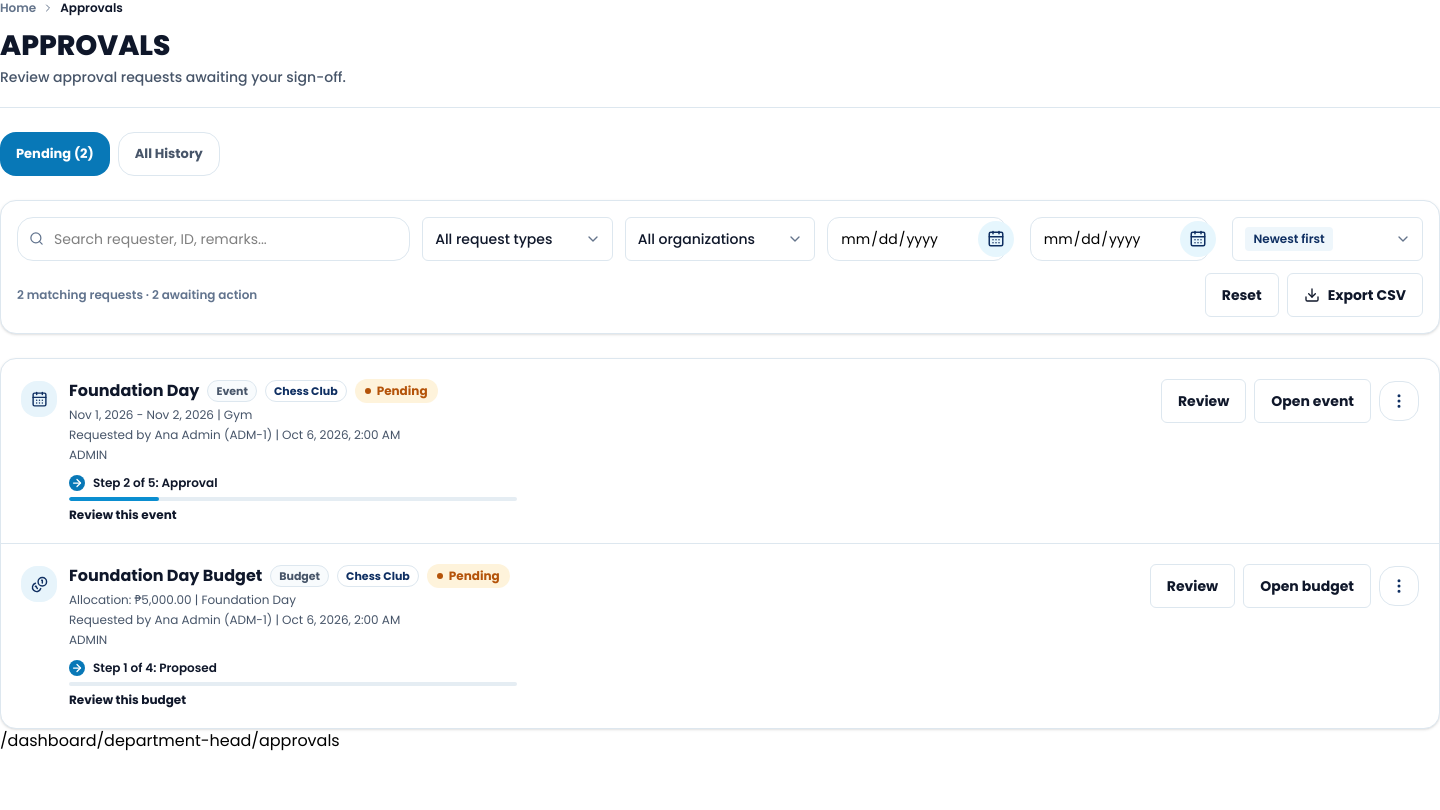
DepartmentHeadApprovalsPage drawer › writes ?record= when a row is opened and closes the drawer when it is cleared
The width and height of the screenshot is (1440, 810).
Click the button named "Actions for Foundation Day": click(1399, 401) [1379, 381, 1419, 421]
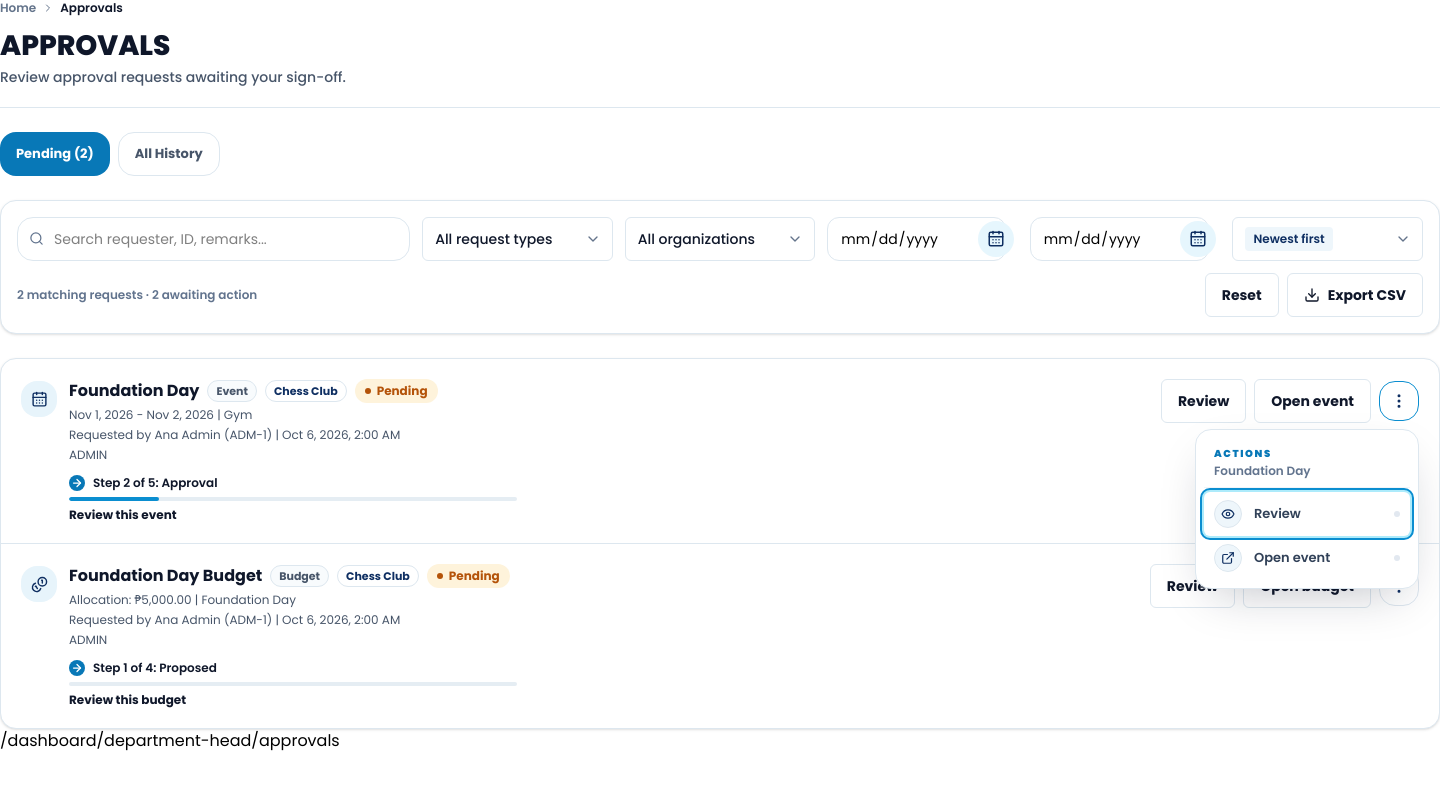
Click the menu item "Review": click(1307, 514) [1204, 492, 1410, 536]
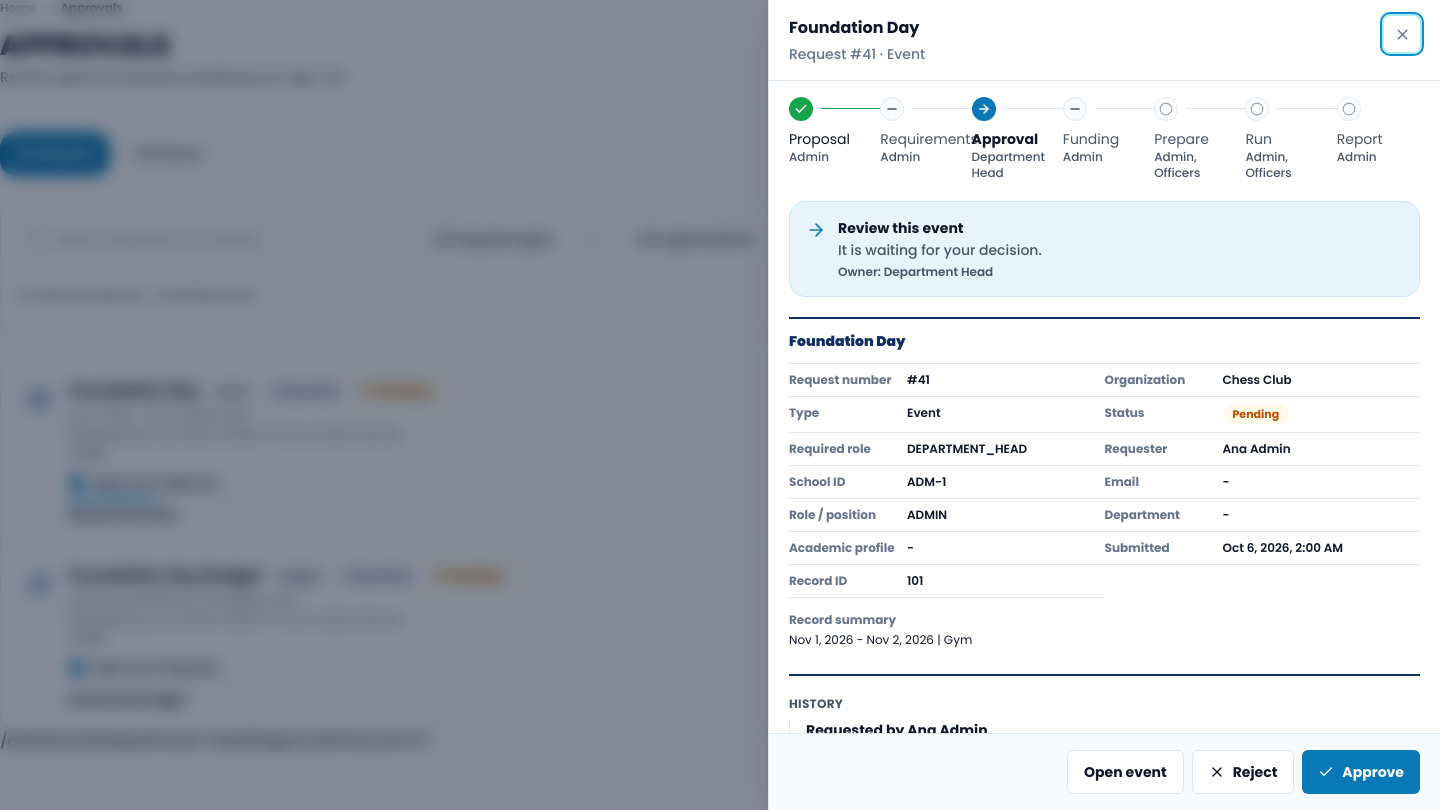
Expected: the dialog "Foundation Day" is shown
Click the button named "Close panel": click(1402, 34) [1384, 16, 1420, 52]
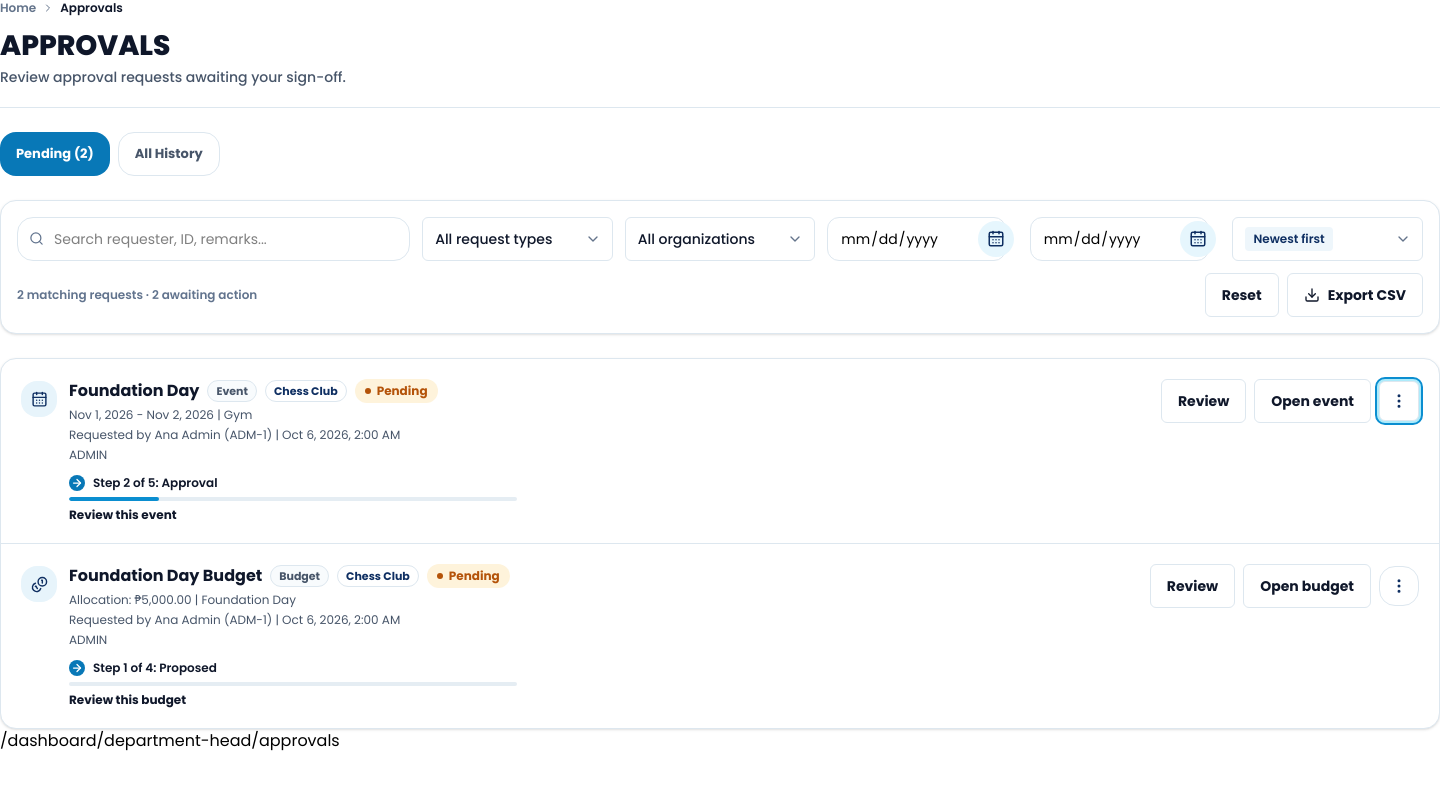
Expected: the dialog is gone
Expected: the text with test id "location" no longer shows "record=", [0, 729, 340, 752]
